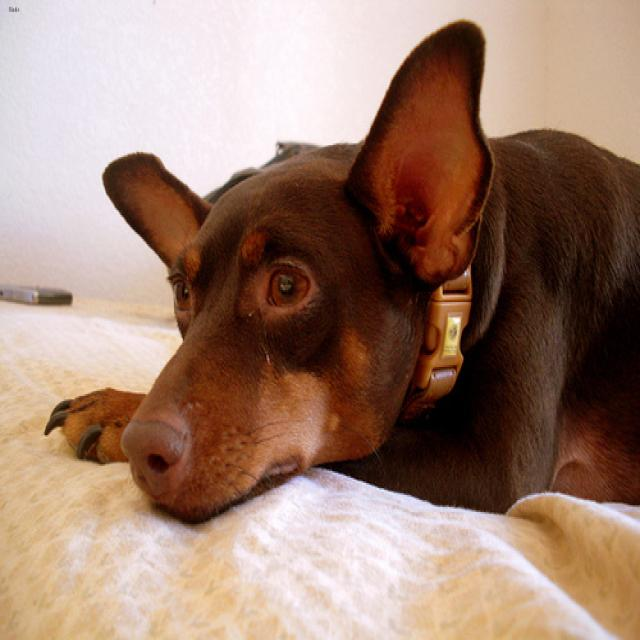dog-miniature_pinscher: (38, 7, 637, 531)
